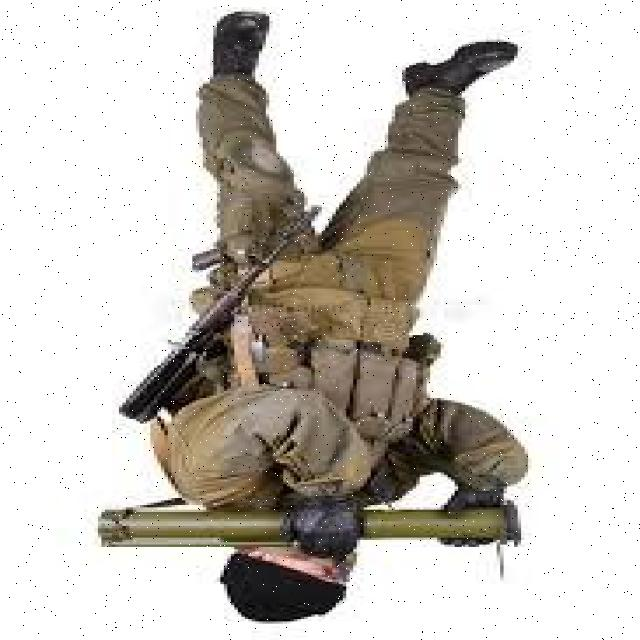bazooka: (87, 489, 550, 592)
